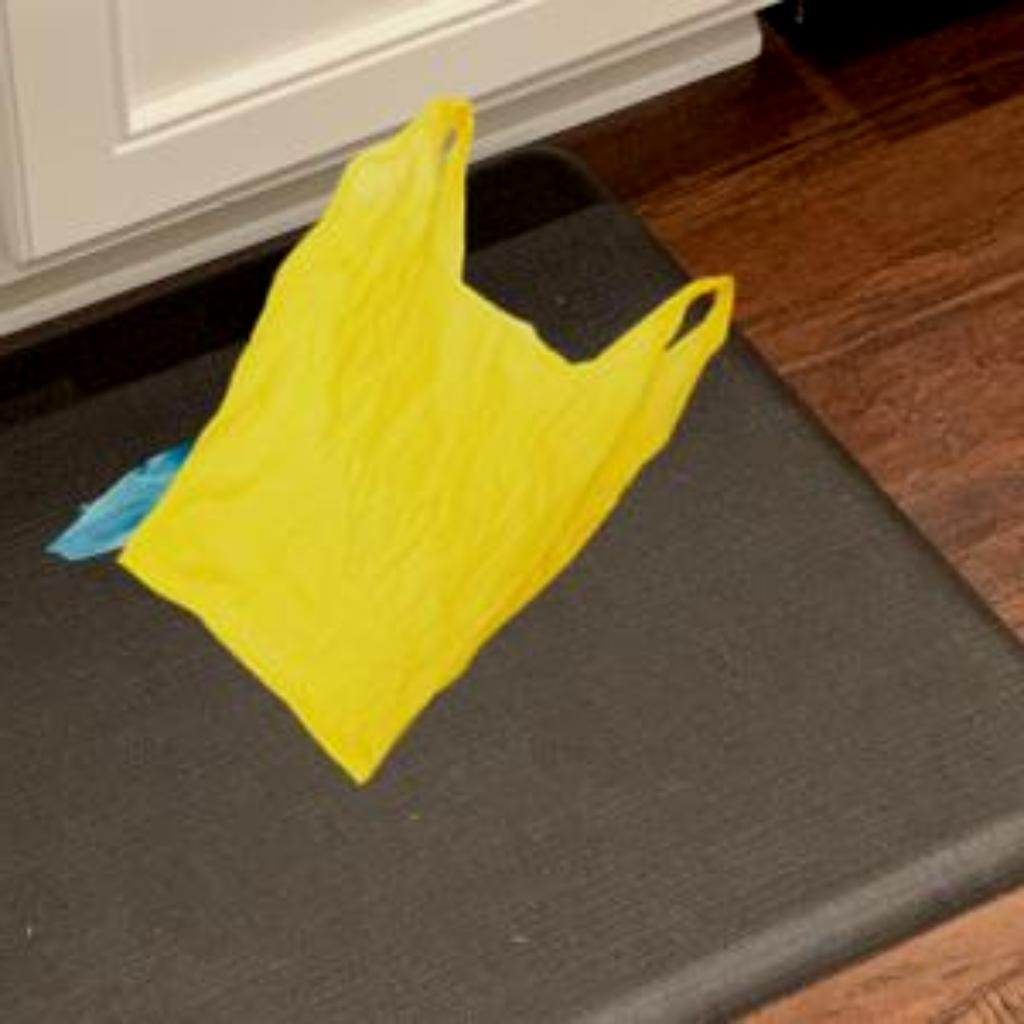garbage: (85, 89, 769, 803)
